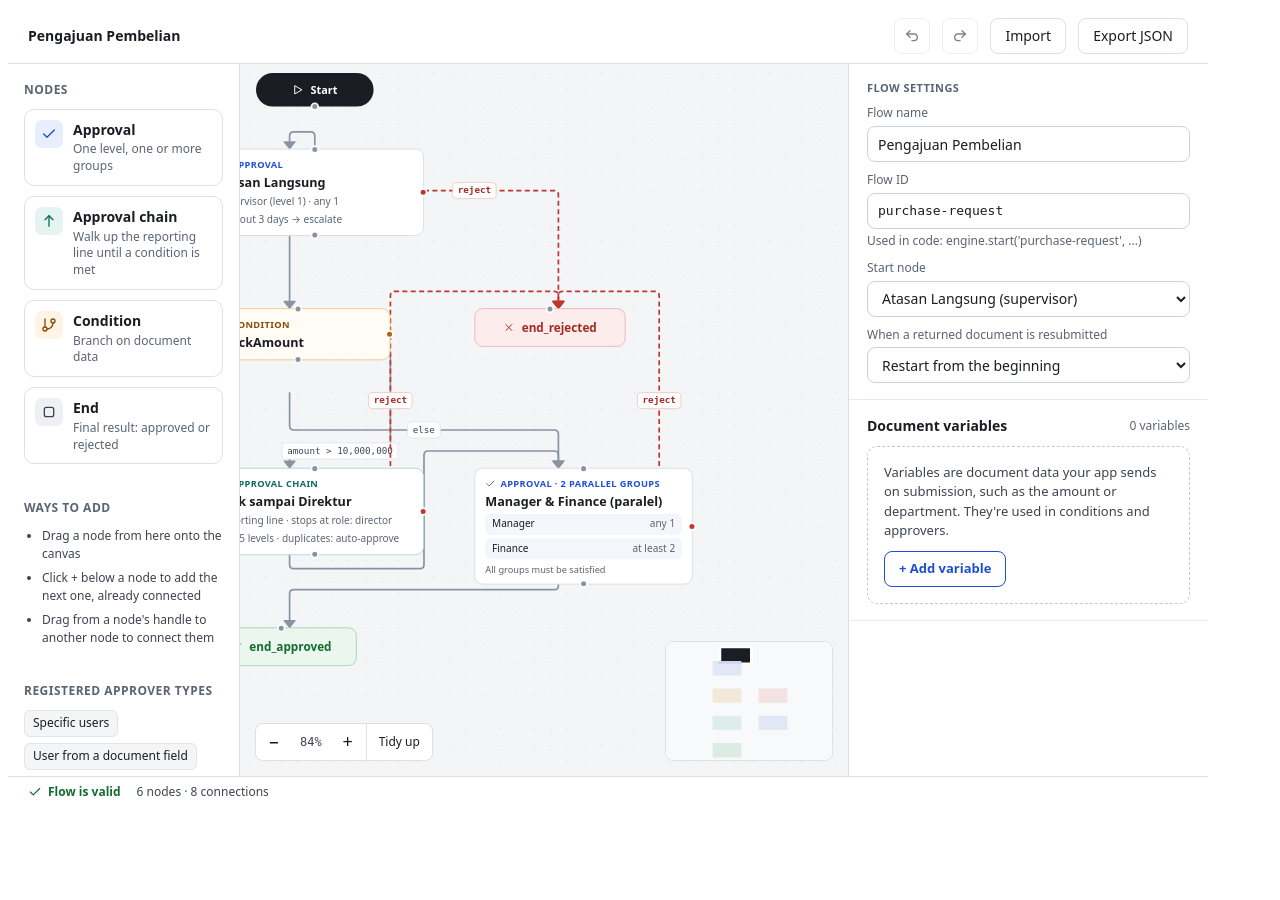
Test: node head and actions › edits and clears the label, sets the start node, and deletes nodes
This screenshot has width=1280, height=900.
Click the element with test id "node-chain": (315, 511) 206,468 -> 424,555
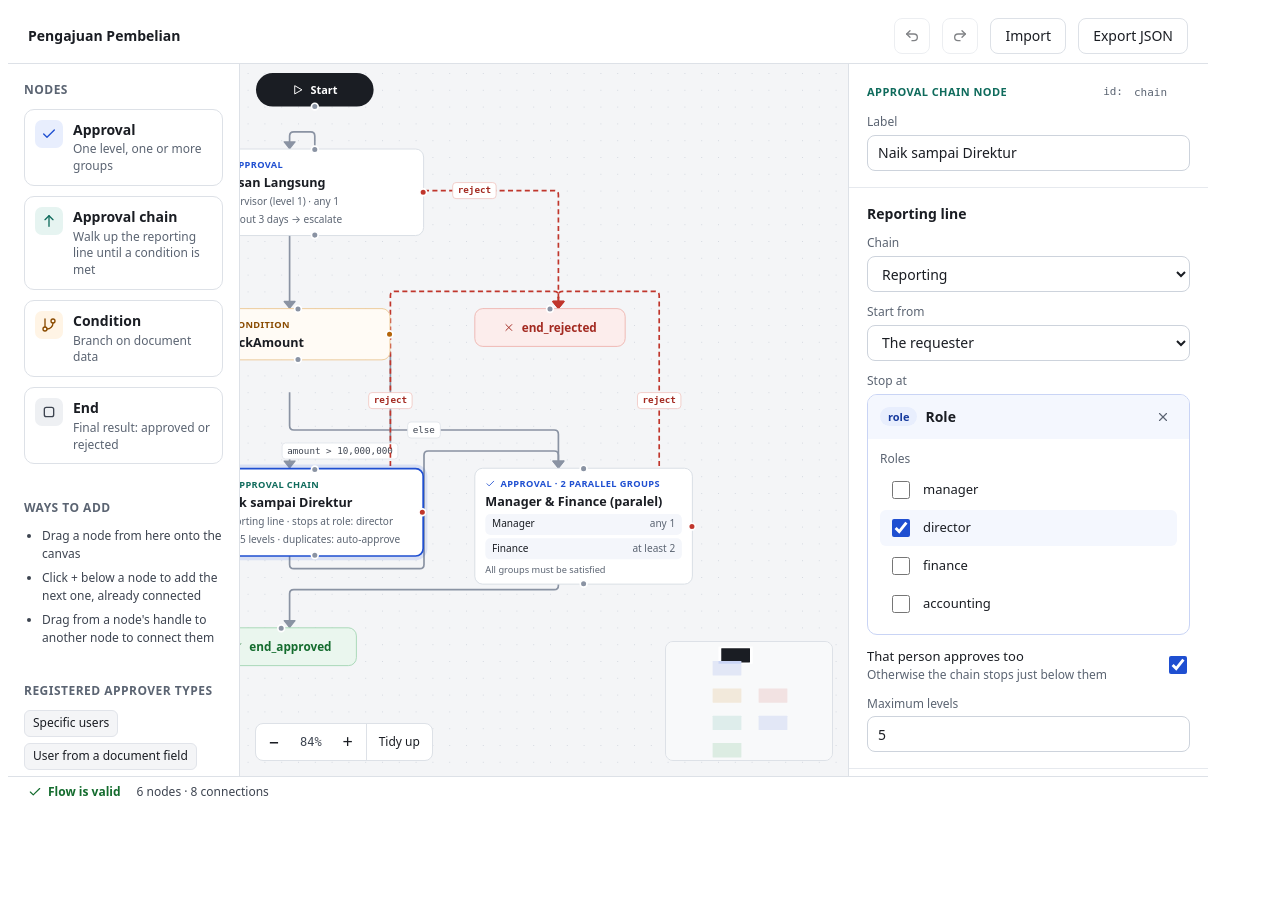
Expected: the field named "Node ID" holds "chain", 1127,80 -> 1190,104
Replace the text in the field labelled "Label" with "Up": (1028, 153) 867,135 -> 1190,171
(page scrolled)
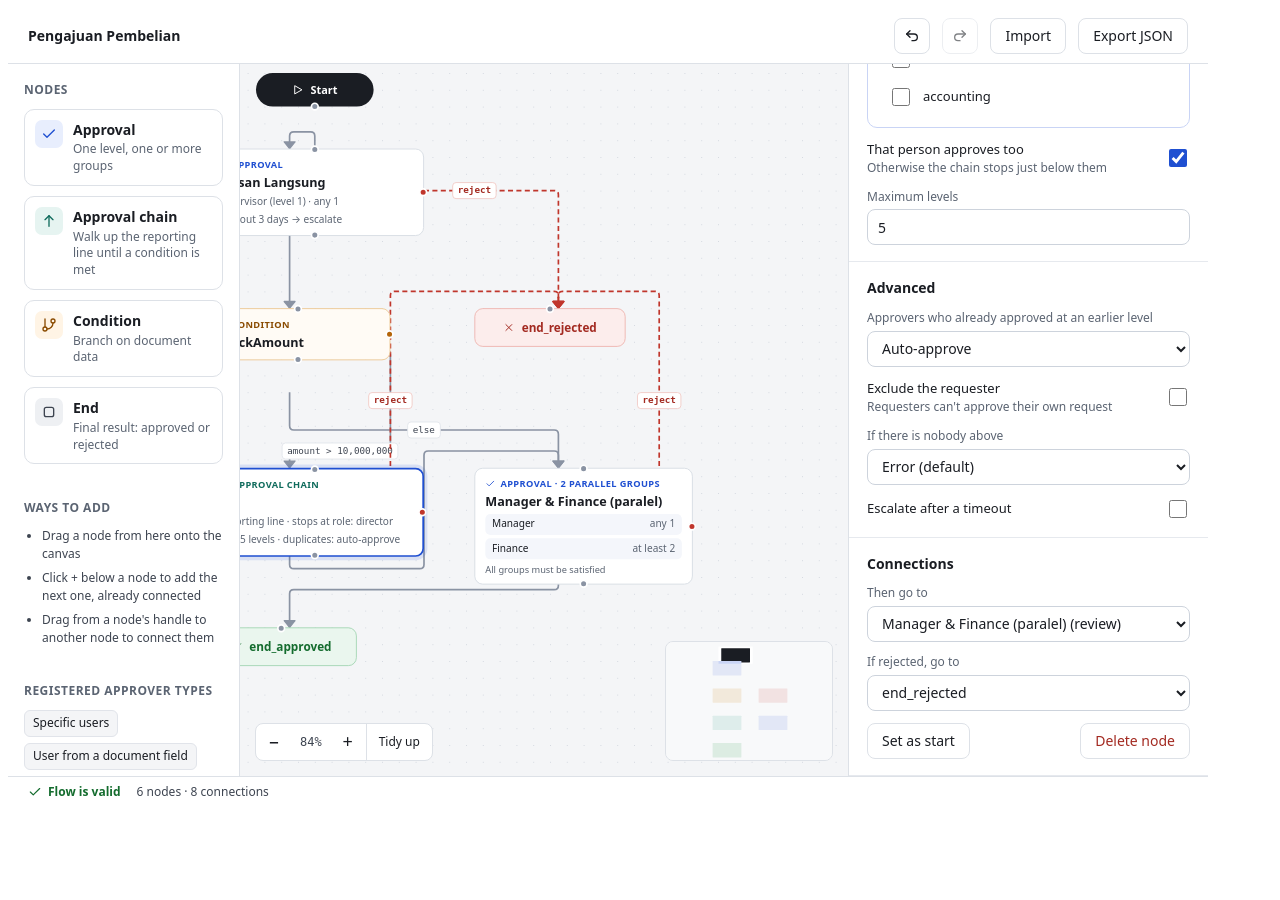
Click the button "Set as start": (918, 741) 867,723 -> 970,759
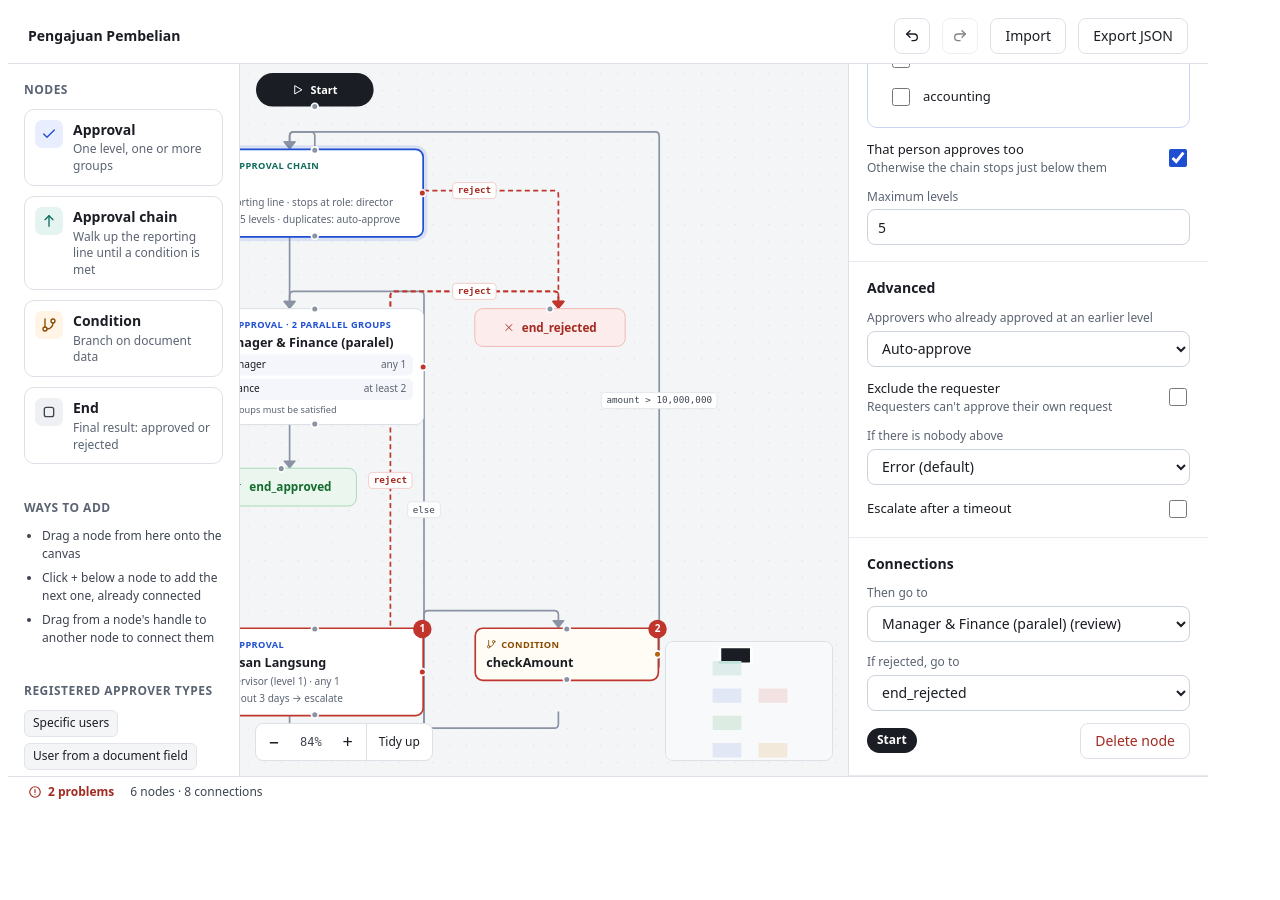
Expected: the text "Start" below "If rejected, go to" is shown, 877,731 -> 907,748
Click the button "Delete node": (1135, 741) 1080,723 -> 1190,759
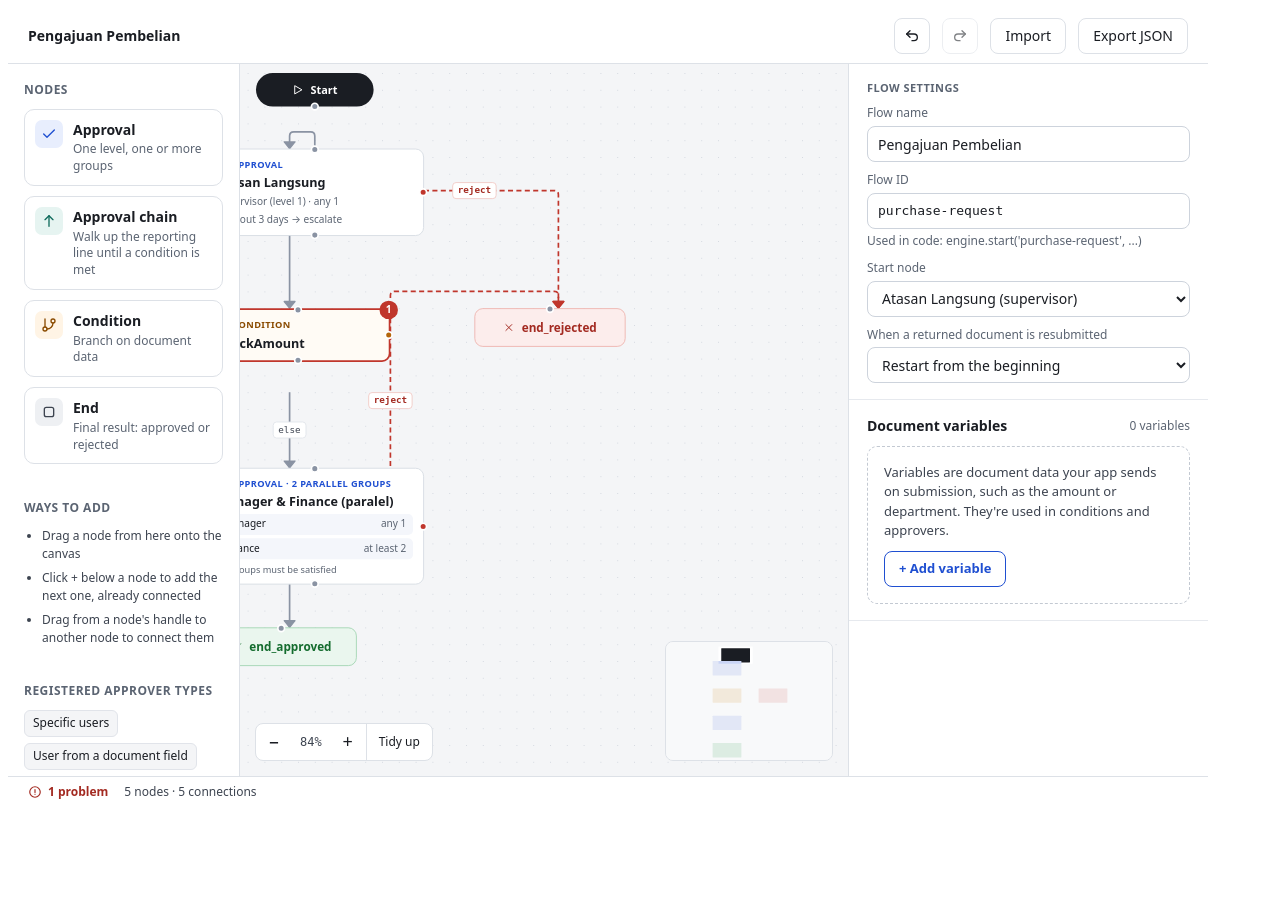
Expected: the field labelled "Flow name" is shown, 867,126 -> 1190,162
